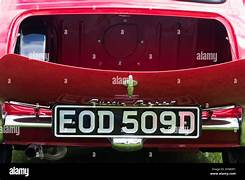number_plate: (57, 107, 200, 137)
